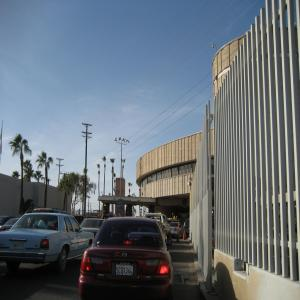Vehicle-registration-plate: (116, 261, 134, 277)
